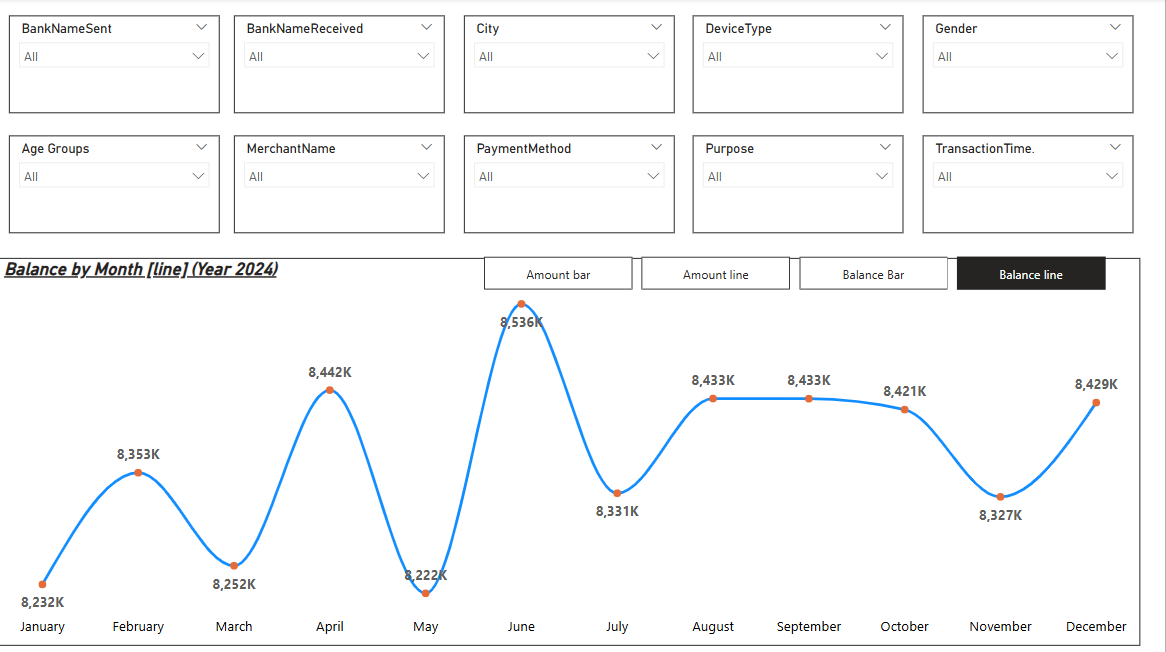

Layout of this report page (visuals, bound fields, positions):
{"tool":"powerbi","page":{"name":"Page 1","canvas":[1280,720],"ordinal":0},"visuals":[{"type":"slicer","fields":{"Values":["UPI Transaction.BankNameSent"]},"box":[11.2,19.9,231.2,106.9],"z":0},{"type":"slicer","fields":{"Values":["UPI Transaction.Age Groups"]},"box":[11.2,150.4,231.2,106.9],"z":1000},{"type":"slicer","fields":{"Values":["UPI Transaction.MerchantName"]},"box":[257.3,150.4,231.2,106.9],"z":2000},{"type":"slicer","fields":{"Values":["UPI Transaction.PaymentMethod"]},"box":[510.9,150.4,231.2,106.9],"z":3000},{"type":"slicer","fields":{"Values":["UPI Transaction.Purpose"]},"box":[761.9,150.4,231.2,106.9],"z":4000},{"type":"slicer","fields":{"Values":["UPI Transaction.BankNameReceived"]},"box":[257.3,19.9,231.2,106.9],"z":5000},{"type":"slicer","fields":{"Values":["UPI Transaction.City"]},"box":[510.9,19.9,231.2,106.9],"z":6000},{"type":"slicer","fields":{"Values":["UPI Transaction.DeviceType"]},"box":[761.9,19.9,231.2,106.9],"z":7000},{"type":"slicer","fields":{"Values":["UPI Transaction.Gender"]},"box":[1014.3,19.9,231.2,106.9],"z":8000},{"type":"slicer","fields":{"Values":["UPI Transaction.TransactionTime."]},"box":[1014.3,150.4,231.2,106.9],"z":9000},{"type":"lineChart","title":"Balance by Month [line] (Year 2024)","fields":{"Category":["UPI Transaction.TransactionDate.Variation.Date Hierarchy.Month"],"Y":["Sum(UPI Transaction.RemainingBalance)"]},"box":[0,285.1,1253,425.8],"z":14000},{"type":"bookmarkNavigator","box":[532,283.7,683.1,36.8],"z":14500}]}

Visuals, with their boxes in screenshot pixels (x1, y1, x2, y2), scaled from the page's 1280x720 canvas onto the 1166x652 screenshot:
slicer - UPI Transaction.BankNameSent: select_region(10, 18, 221, 115)
slicer - UPI Transaction.Age Groups: select_region(10, 136, 221, 233)
slicer - UPI Transaction.MerchantName: select_region(234, 136, 445, 233)
slicer - UPI Transaction.PaymentMethod: select_region(465, 136, 676, 233)
slicer - UPI Transaction.Purpose: select_region(694, 136, 905, 233)
slicer - UPI Transaction.BankNameReceived: select_region(234, 18, 445, 115)
slicer - UPI Transaction.City: select_region(465, 18, 676, 115)
slicer - UPI Transaction.DeviceType: select_region(694, 18, 905, 115)
slicer - UPI Transaction.Gender: select_region(924, 18, 1135, 115)
slicer - UPI Transaction.TransactionTime.: select_region(924, 136, 1135, 233)
"Balance by Month [line] (Year 2024)" lineChart: select_region(0, 258, 1141, 644)
bookmarkNavigator: select_region(485, 257, 1107, 290)
